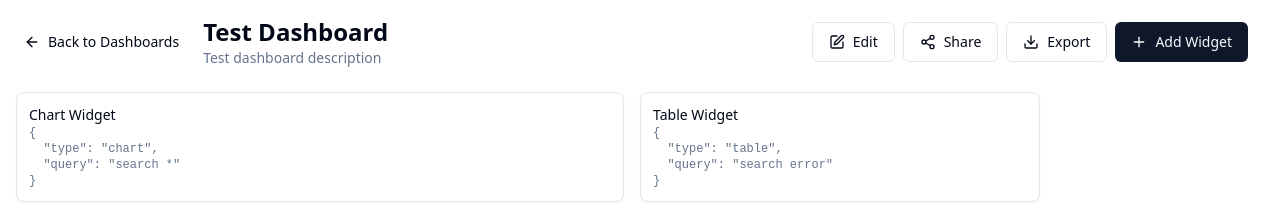
Dashboard Drag and Drop › toggles edit mode UI elements correctly
Expected: the heading "Test Dashboard" is shown, [203, 16, 388, 48]
# Enter edit mode
Click the button "Edit".
click(853, 42)  # box [812, 22, 895, 62]
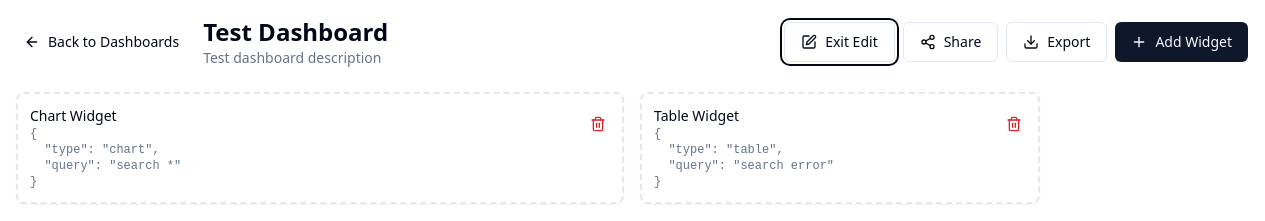
Now the button "Exit Edit" is shown, box [784, 22, 895, 62]
